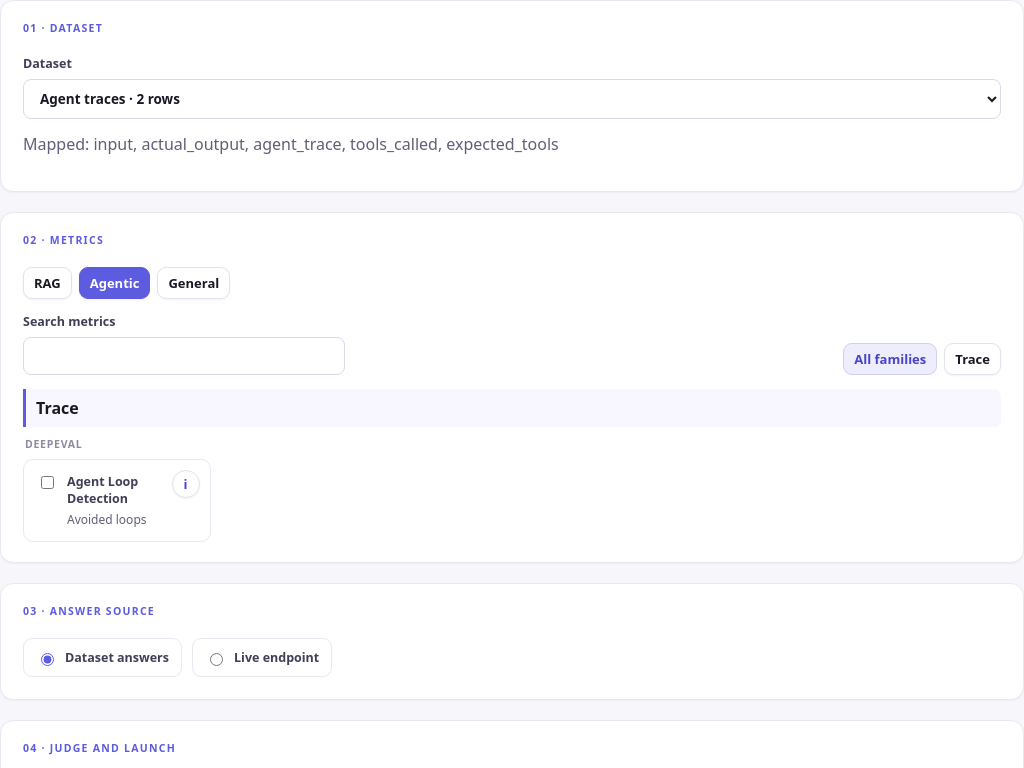
Test case: RunWizard › keeps different sample kinds in separate runs
Click the checkbox labelled "Agent Loop Detection": x=48, y=483 [41, 476, 54, 489]
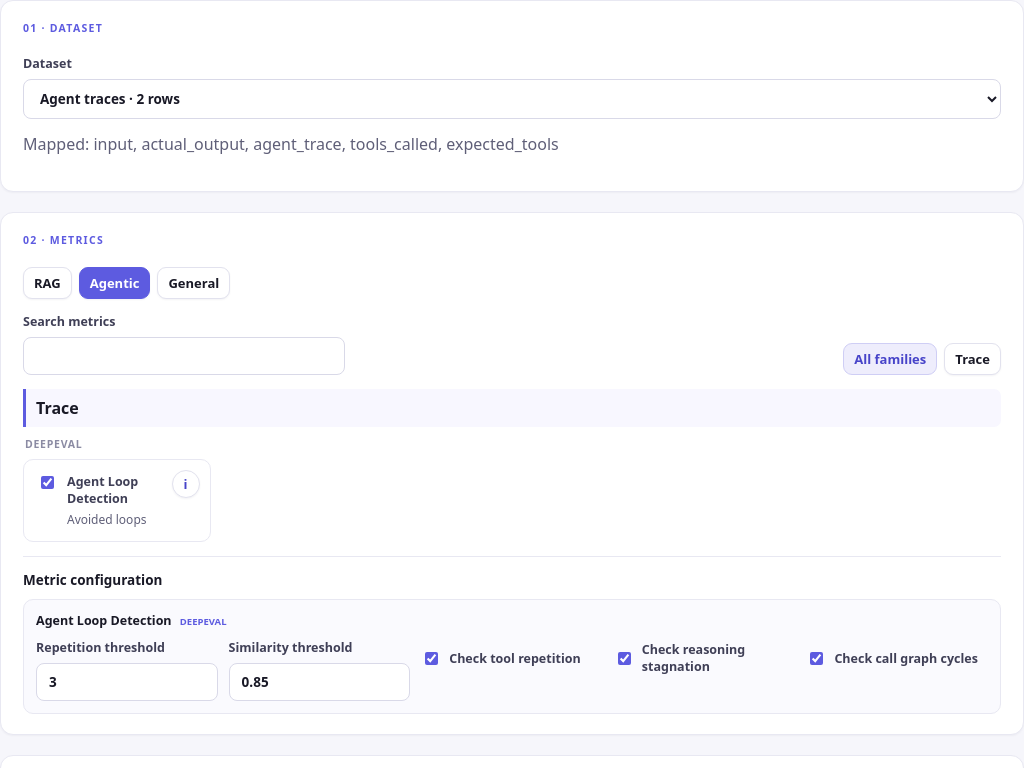
Click the button "General": x=194, y=283 [157, 267, 230, 299]
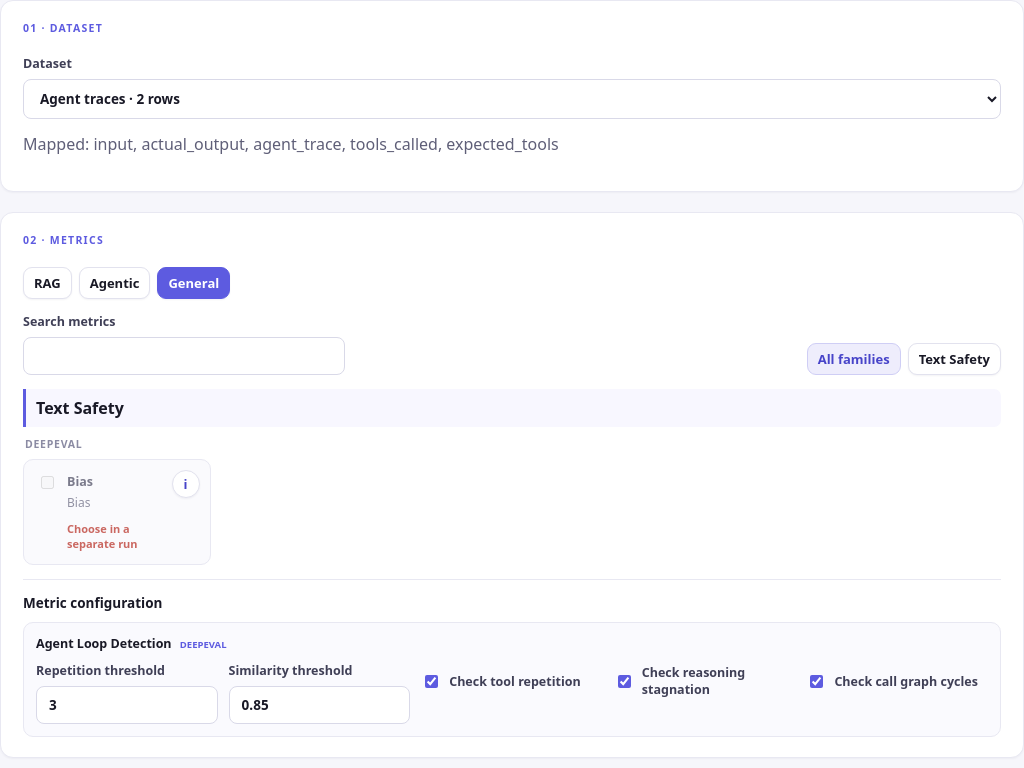
expect the checkbox labelled "Bias" is disabled: met, box [41, 476, 54, 489]
expect the text "Choose in a separate run" is shown: met, box [67, 521, 138, 551]
